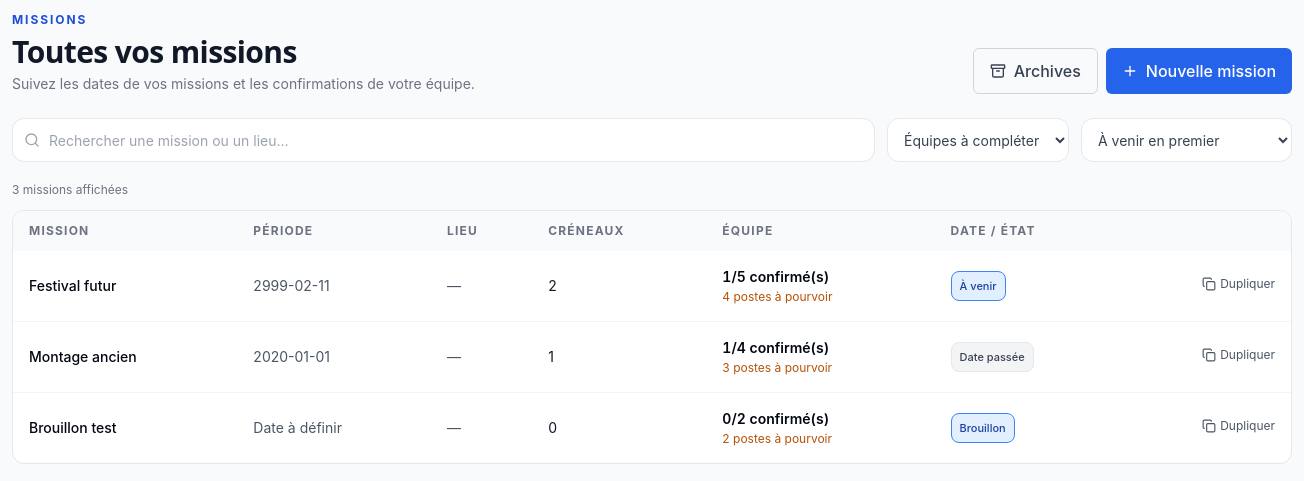
Test: filters narrow the visible mission list
The image size is (1304, 481).
Select "Équipes à compléter" in the dropdown named "Filtrer les missions": (978, 140) [887,118,1069,162]
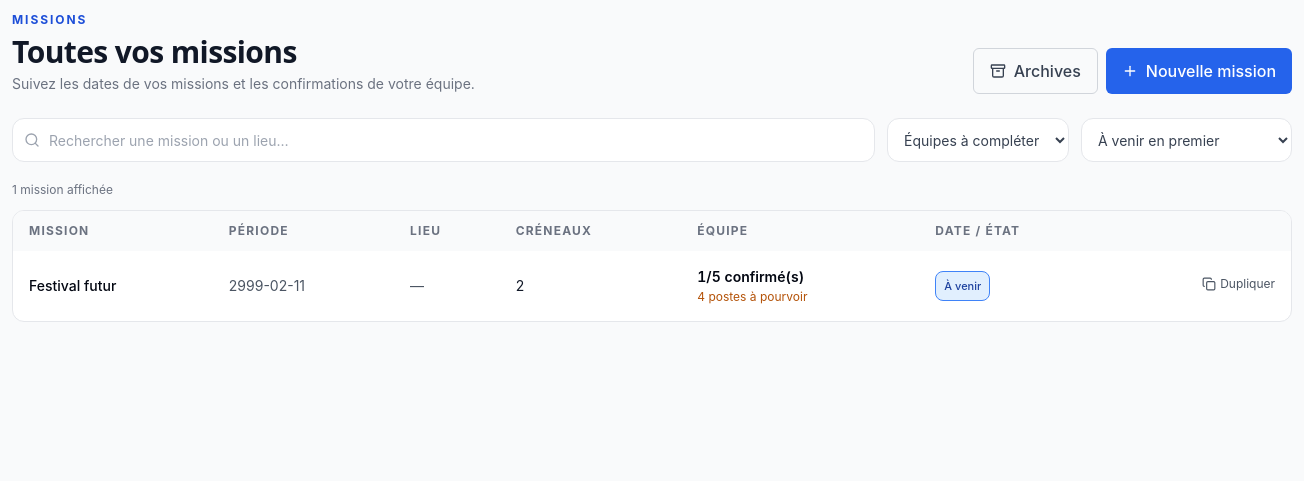
Check: the row with test id "mission-row-old" is gone
